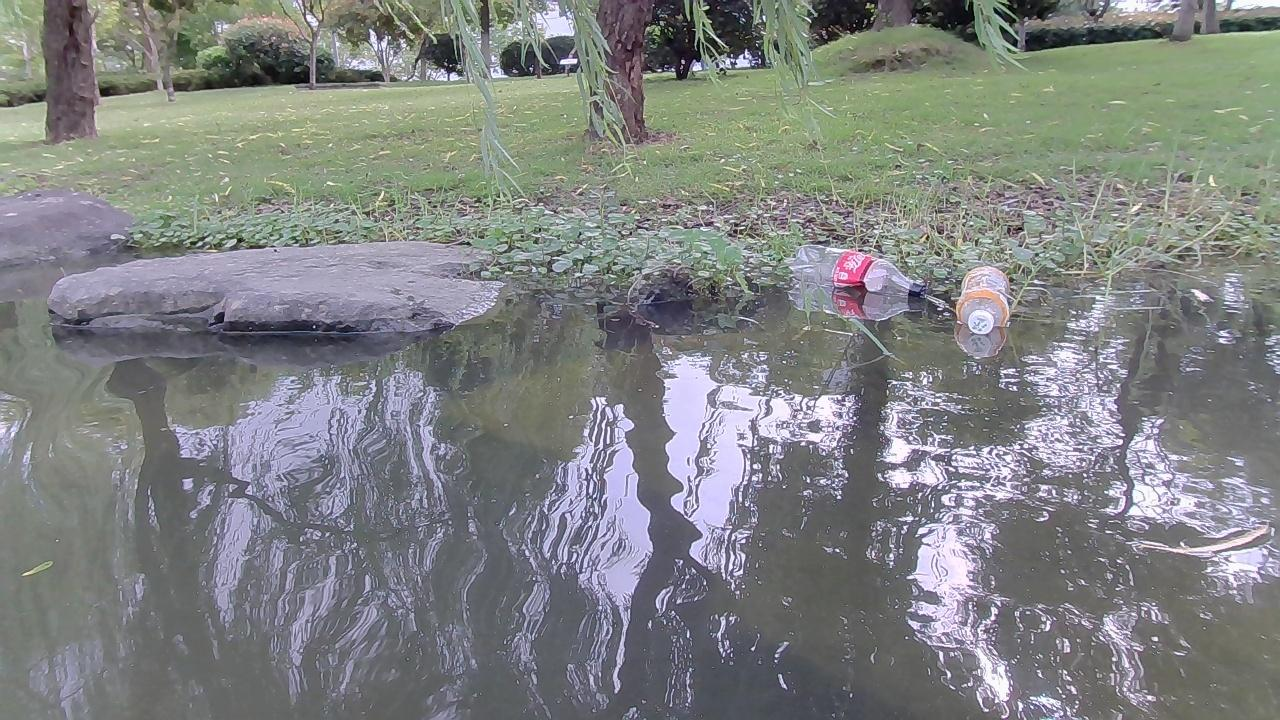bottle: (786, 238, 921, 304), (951, 259, 1015, 342)
